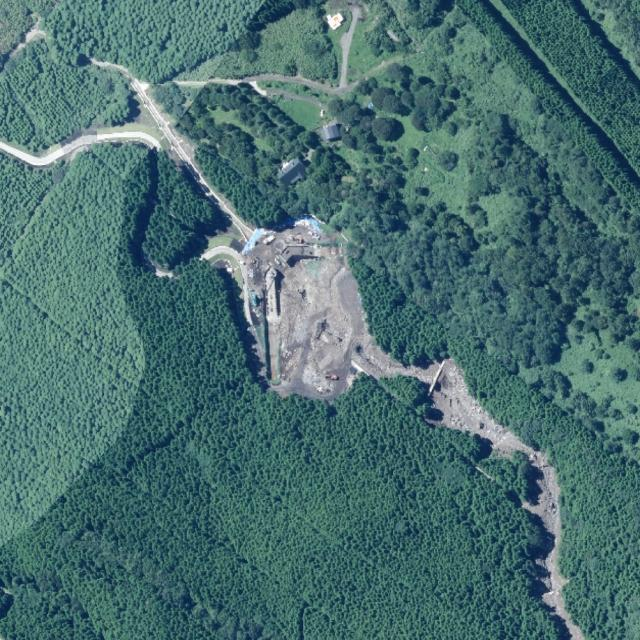landslide: (240, 226, 581, 637)
